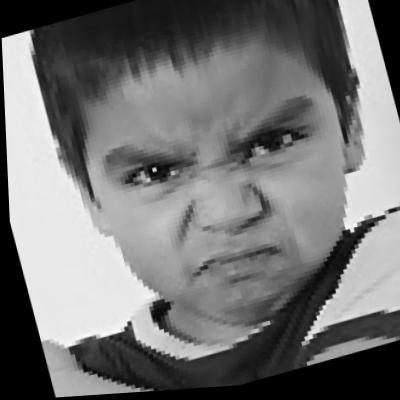angry: (52, 0, 380, 341)
